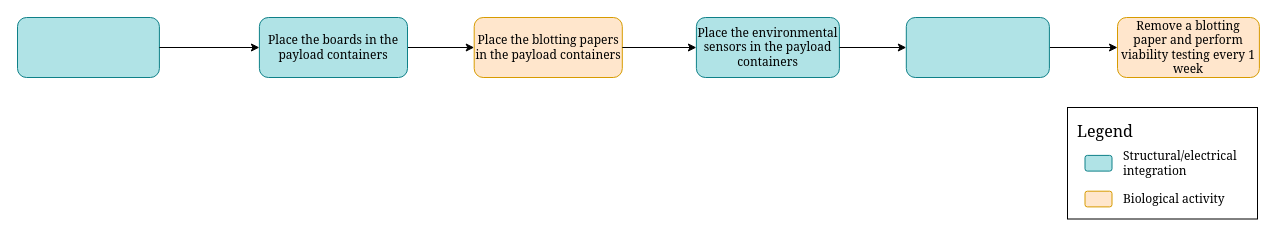
Some shapes in this 1277 by 237 pixel diagram are drawn without their labels. Here are the shapes that lost their labels. From the top down, the box of each, then its label:
(16, 16, 159, 78): Assemble 2 proxy payload containers (with and without carbon sheets)
(905, 16, 1049, 78): Store the payload containers for 8 weeks at 20-25 °C
